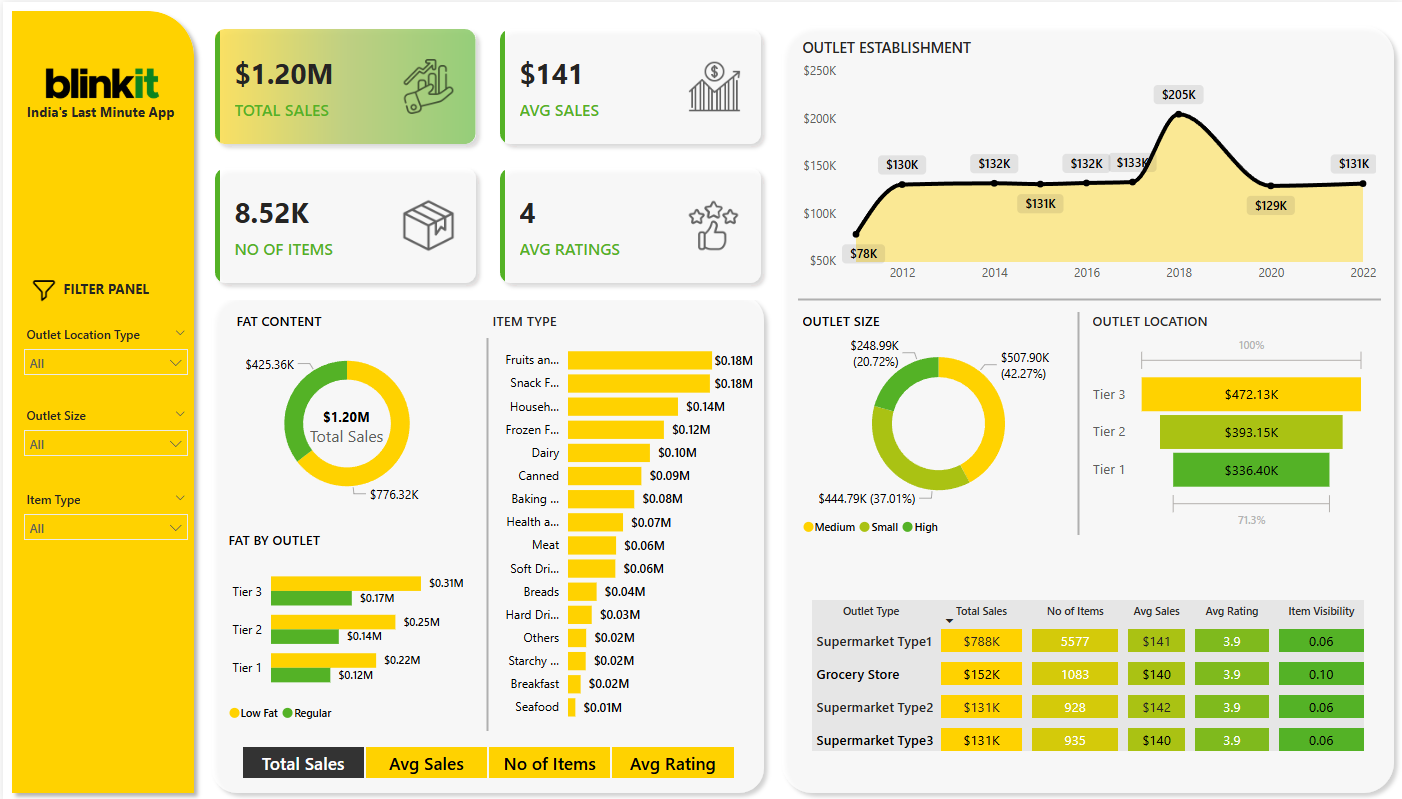

This screenshot's page, from the dashboard's own definition file:
{"tool":"powerbi","page":{"name":"Page 1","canvas":[1400,800],"ordinal":0},"visuals":[{"type":"shape","box":[200,283.8,570,516.2],"z":0},{"type":"shape","box":[0,0,200,800],"z":1000},{"type":"image","box":[11.2,0,177.5,162.5],"z":2000},{"type":"cardVisual","fields":{"Data":["BlinkIT Grocery Data.Total Sales","BlinkIT Grocery Data.Avg Sales","BlinkIT Grocery Data.No of Items","BlinkIT Grocery Data.Avg Rating"]},"box":[200,15,570,282.5],"z":3000},{"type":"donutChart","title":"FAT CONTENT","fields":{"Y":["BlinkIT Grocery Data.Total Sales"],"Category":["BlinkIT Grocery Data.Item Fat Content"]},"box":[228.8,310,230,206.2],"z":4000},{"type":"slicer","fields":{"Values":["Metrics.Metrics"]},"box":[213.8,737.5,541.2,40],"z":5000},{"type":"cardVisual","fields":{"Data":["BlinkIT Grocery Data.Total Sales"]},"box":[283.8,381.2,120,86.2],"z":6000},{"type":"clusteredBarChart","title":"FAT BY OUTLET","fields":{"Y":["BlinkIT Grocery Data.Total Sales"],"Category":["BlinkIT Grocery Data.Outlet Location Type"],"Series":["BlinkIT Grocery Data.Item Fat Content"]},"box":[221.2,528.8,245,200],"z":7000},{"type":"shape","box":[448.8,336.2,71.2,392.5],"z":8000},{"type":"barChart","title":"ITEM TYPE","fields":{"Y":["BlinkIT Grocery Data.Total Sales"],"Category":["BlinkIT Grocery Data.Item Type"]},"box":[485,310,270,418.8],"z":9000},{"type":"shape","box":[770,15,630,785],"z":10000},{"type":"lineChart","title":"OUTLET ESTABLISHMENT","fields":{"Y":["BlinkIT Grocery Data.Total Sales"],"Category":["BlinkIT Grocery Data.Outlet Establishment Year"]},"box":[795,35,582.5,253.8],"z":11000},{"type":"shape","box":[795,276.2,582.5,42.5],"z":12000},{"type":"donutChart","title":"OUTLET SIZE","fields":{"Y":["BlinkIT Grocery Data.Total Sales"],"Category":["BlinkIT Grocery Data.Outlet Size"]},"box":[795,310,281.2,232.5],"z":13000},{"type":"funnel","title":"OUTLET LOCATION","fields":{"Y":["BlinkIT Grocery Data.Total Sales"],"Category":["BlinkIT Grocery Data.Outlet Location Type"]},"box":[1085,310,282.5,222.5],"z":14000},{"type":"shape","box":[1040,310,71.2,222.5],"z":15000},{"type":"pivotTable","fields":{"Rows":["BlinkIT Grocery Data.Outlet Type"],"Values":["BlinkIT Grocery Data.Total Sales","BlinkIT Grocery Data.No of Items","BlinkIT Grocery Data.Avg Sales","BlinkIT Grocery Data.Avg Rating","Avg(BlinkIT Grocery Data.Item Visibility)"]},"box":[803.8,592.5,563.8,185],"z":16000},{"type":"textbox","box":[16.2,96.2,167.5,36.2],"z":17000},{"type":"slicer","fields":{"Values":["BlinkIT Grocery Data.Outlet Location Type"]},"box":[11.2,318.8,183.8,65],"z":18000},{"type":"slicer","fields":{"Values":["BlinkIT Grocery Data.Outlet Size"]},"box":[11.2,400,183.8,65],"z":19000},{"type":"slicer","fields":{"Values":["BlinkIT Grocery Data.Item Type"]},"box":[11.2,483.8,183.8,65],"z":20000},{"type":"image","box":[16.2,270,50,36.2],"z":21000},{"type":"textbox","box":[56.2,272.5,113.8,32.5],"z":21001}]}

Visuals, with their boxes in screenshot pixels (x1, y1, x2, y2), scaled from the page's 1400x800 canvas onto the 1402x799 screenshot:
shape: 200, 283, 771, 798
shape: 0, 0, 200, 798
image: 11, 0, 189, 162
cardVisual - BlinkIT Grocery Data.Total Sales x BlinkIT Grocery Data.Avg Sales: 200, 15, 771, 297
"FAT CONTENT" donutChart: 229, 310, 459, 516
slicer - Metrics.Metrics: 214, 737, 756, 777
cardVisual - BlinkIT Grocery Data.Total Sales: 284, 381, 404, 467
"FAT BY OUTLET" clusteredBarChart: 222, 528, 467, 728
shape: 449, 336, 521, 728
"ITEM TYPE" barChart: 486, 310, 756, 728
shape: 771, 15, 1401, 798
"OUTLET ESTABLISHMENT" lineChart: 796, 35, 1379, 288
shape: 796, 276, 1379, 318
"OUTLET SIZE" donutChart: 796, 310, 1078, 542
"OUTLET LOCATION" funnel: 1087, 310, 1369, 532
shape: 1041, 310, 1113, 532
pivotTable - BlinkIT Grocery Data.Outlet Type x BlinkIT Grocery Data.Total Sales: 805, 592, 1370, 777
textbox: 16, 96, 184, 132
slicer - BlinkIT Grocery Data.Outlet Location Type: 11, 318, 195, 383
slicer - BlinkIT Grocery Data.Outlet Size: 11, 400, 195, 464
slicer - BlinkIT Grocery Data.Item Type: 11, 483, 195, 548
image: 16, 270, 66, 306
textbox: 56, 272, 170, 305
